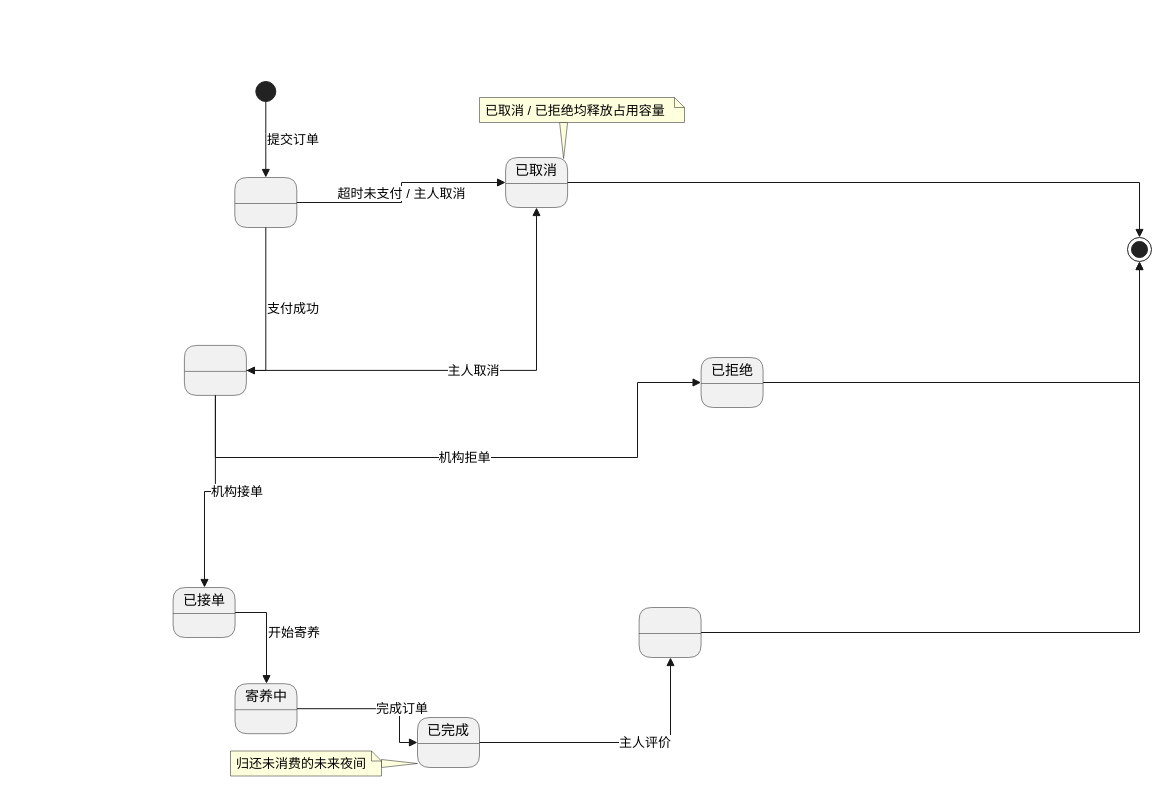
This 1169x793 diagram has some shape labels left out. The shapes that lost their labels are listed below. From the top down, each one's centre as x and y in pixels, then its label:
point 265,202: 待支付
point 215,370: 已预约
point 669,632: 已评价
